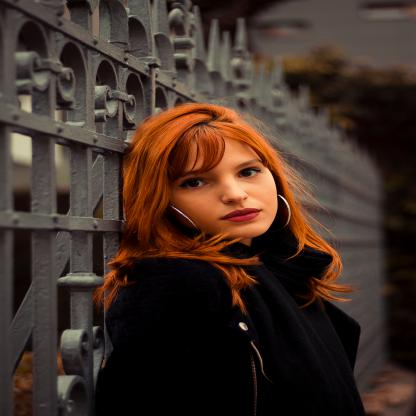Eye: (178, 177, 210, 189), (236, 166, 263, 178)
Mouth: (220, 208, 262, 222)
Nose: (222, 180, 248, 204)
